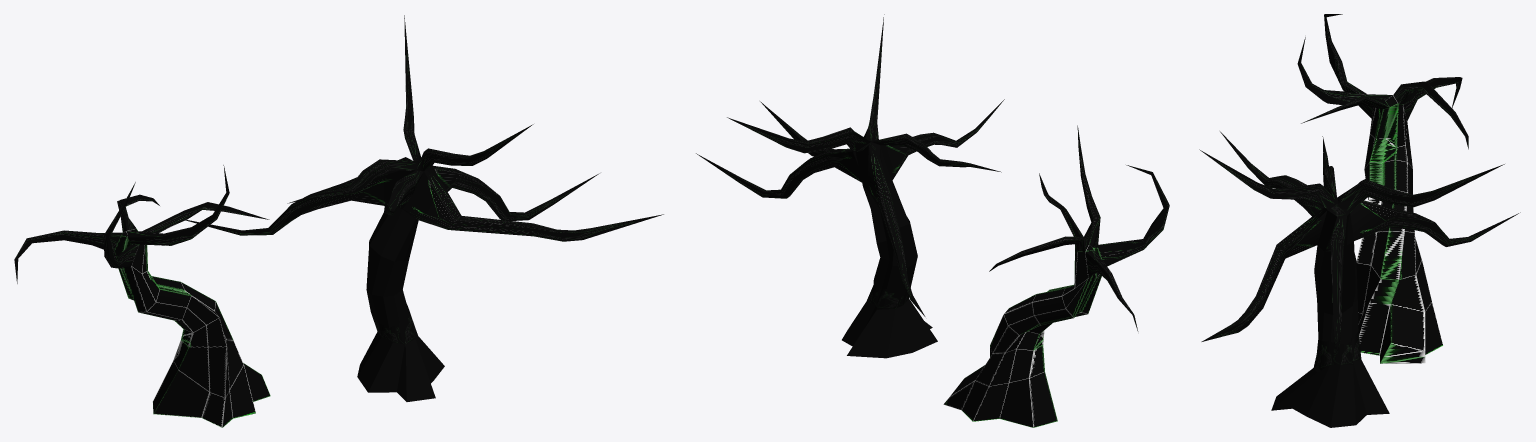
Rendered from trees.FBX.
3 views of the same model, side by side, from view 1: azimuth 30°, elevation 25°; view 2: azimuth 150°, elevation 25°; view 3: azimuth 270°, elevation 25° (orthographic). The views are drawn at different scales.
Parts seen in each view (by area): view 1: Box002, Box001; view 2: Box002, Box001; view 3: Box002, Box001.
Boxes of the visible parts, <box> form: Box002: <box>186,15,663,401</box>; Box001: <box>14,165,270,427</box>; Box002: <box>696,14,1004,358</box>; Box001: <box>943,125,1169,427</box>; Box002: <box>1199,131,1520,427</box>; Box001: <box>1297,14,1468,363</box>.
Bounding box in the file's own units: 422 × 226 × 217.
